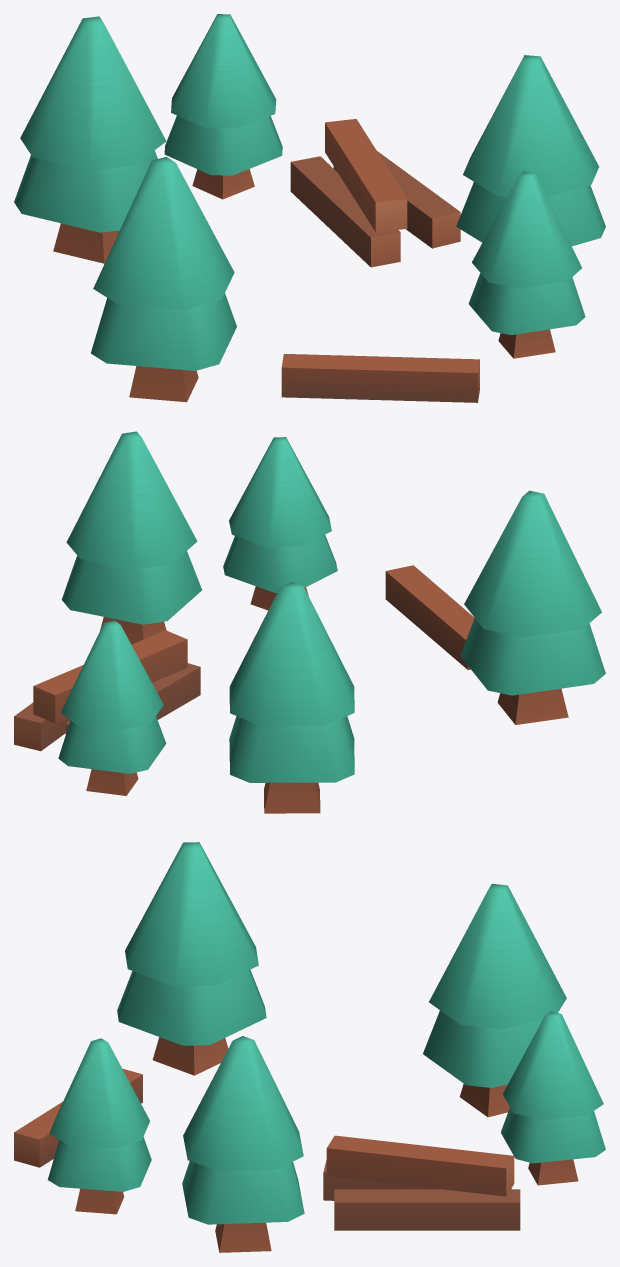
File: lumber.fbx
3 renders of one model, top to bottom at view 1: azimuth 30°, elevation 25°; view 2: azimuth 150°, elevation 25°; view 3: azimuth 270°, elevation 25°, orthographic. The views are drawn at different scales.
Visible parts, largest first — view 1: dirt_lumber; view 2: dirt_lumber; view 3: dirt_lumber.
Boxes of the visible parts, x1,y1,x2,y2 form: dirt_lumber: (14, 14, 605, 402); dirt_lumber: (14, 431, 605, 813); dirt_lumber: (14, 842, 605, 1252).
Size of the model in its own units: 91.41 by 38 by 95.56.
